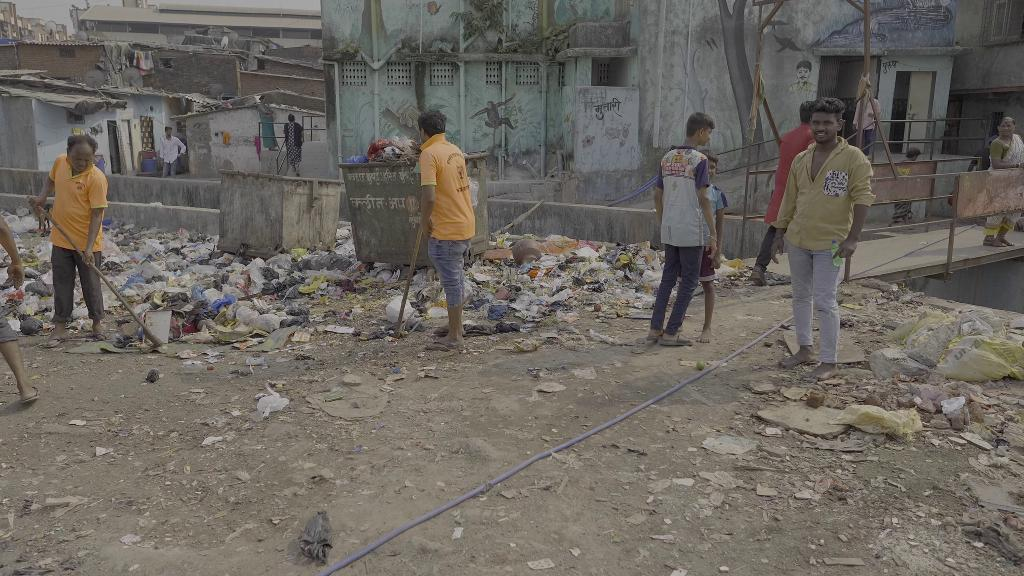dustbin: (216, 165, 346, 265)
garbage: (841, 402, 929, 442), (294, 512, 335, 565), (250, 386, 292, 421), (232, 306, 282, 334), (247, 257, 287, 285), (385, 296, 419, 325), (586, 327, 622, 347), (936, 394, 968, 416), (15, 315, 47, 337), (277, 313, 313, 330), (513, 291, 534, 311), (241, 355, 269, 369), (429, 304, 449, 322), (889, 369, 913, 384), (145, 366, 162, 384), (763, 426, 784, 438), (560, 313, 579, 324), (204, 355, 221, 367)
